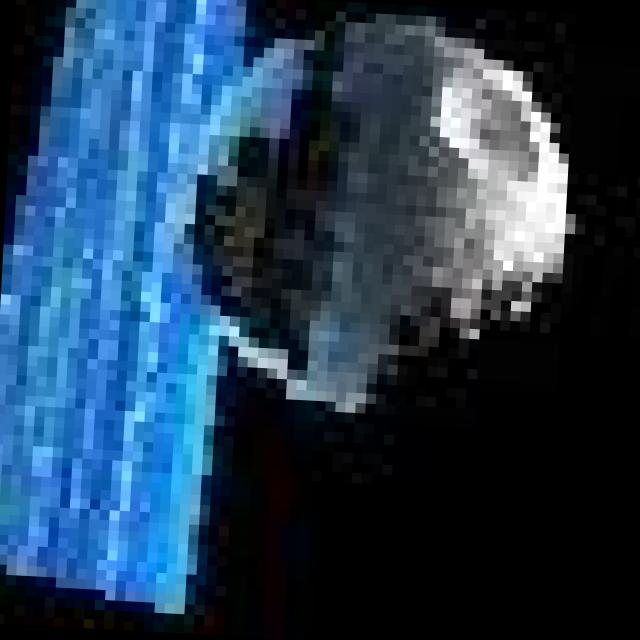Death Star: (154, 2, 586, 443)
